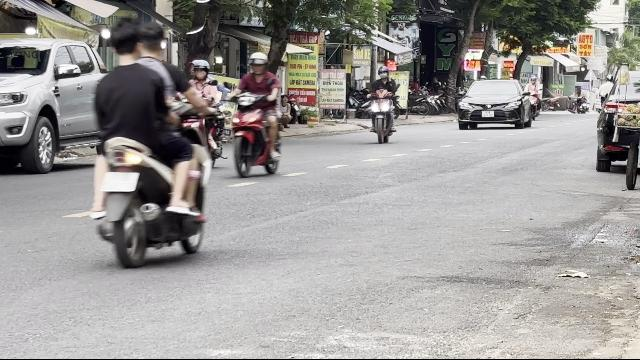helmet: (248, 51, 268, 73), (190, 59, 210, 81)
licenseplate: (102, 172, 138, 190)
motorcyclist: (82, 14, 214, 266), (224, 50, 286, 178)
nohelmet: (105, 17, 143, 62), (135, 22, 165, 58)
